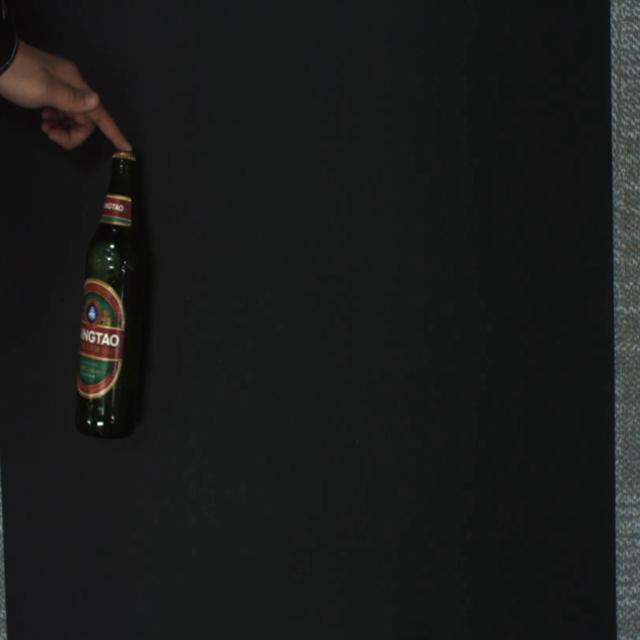beer-bottle: (74, 151, 147, 440)
